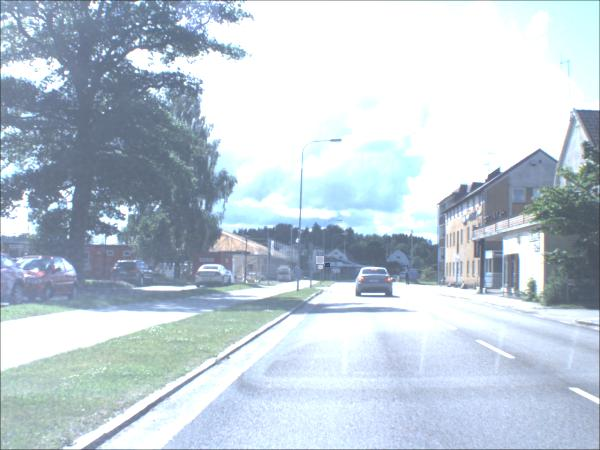NO_STOPPING_NO_STANDING: (316, 257, 325, 266)
PEDESTRIAN_CROSSING: (325, 264, 331, 269), (403, 266, 409, 270)
PRIORITY_ROAD: (318, 266, 324, 271)
